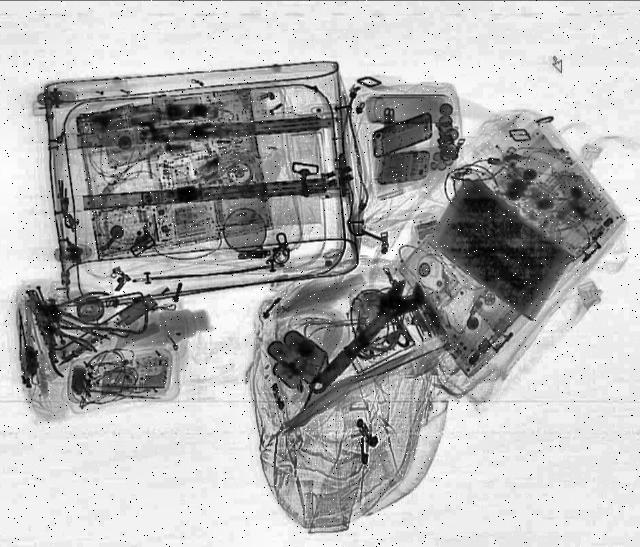Pliers: (17, 309, 104, 379)
Wrench: (299, 273, 436, 403)
